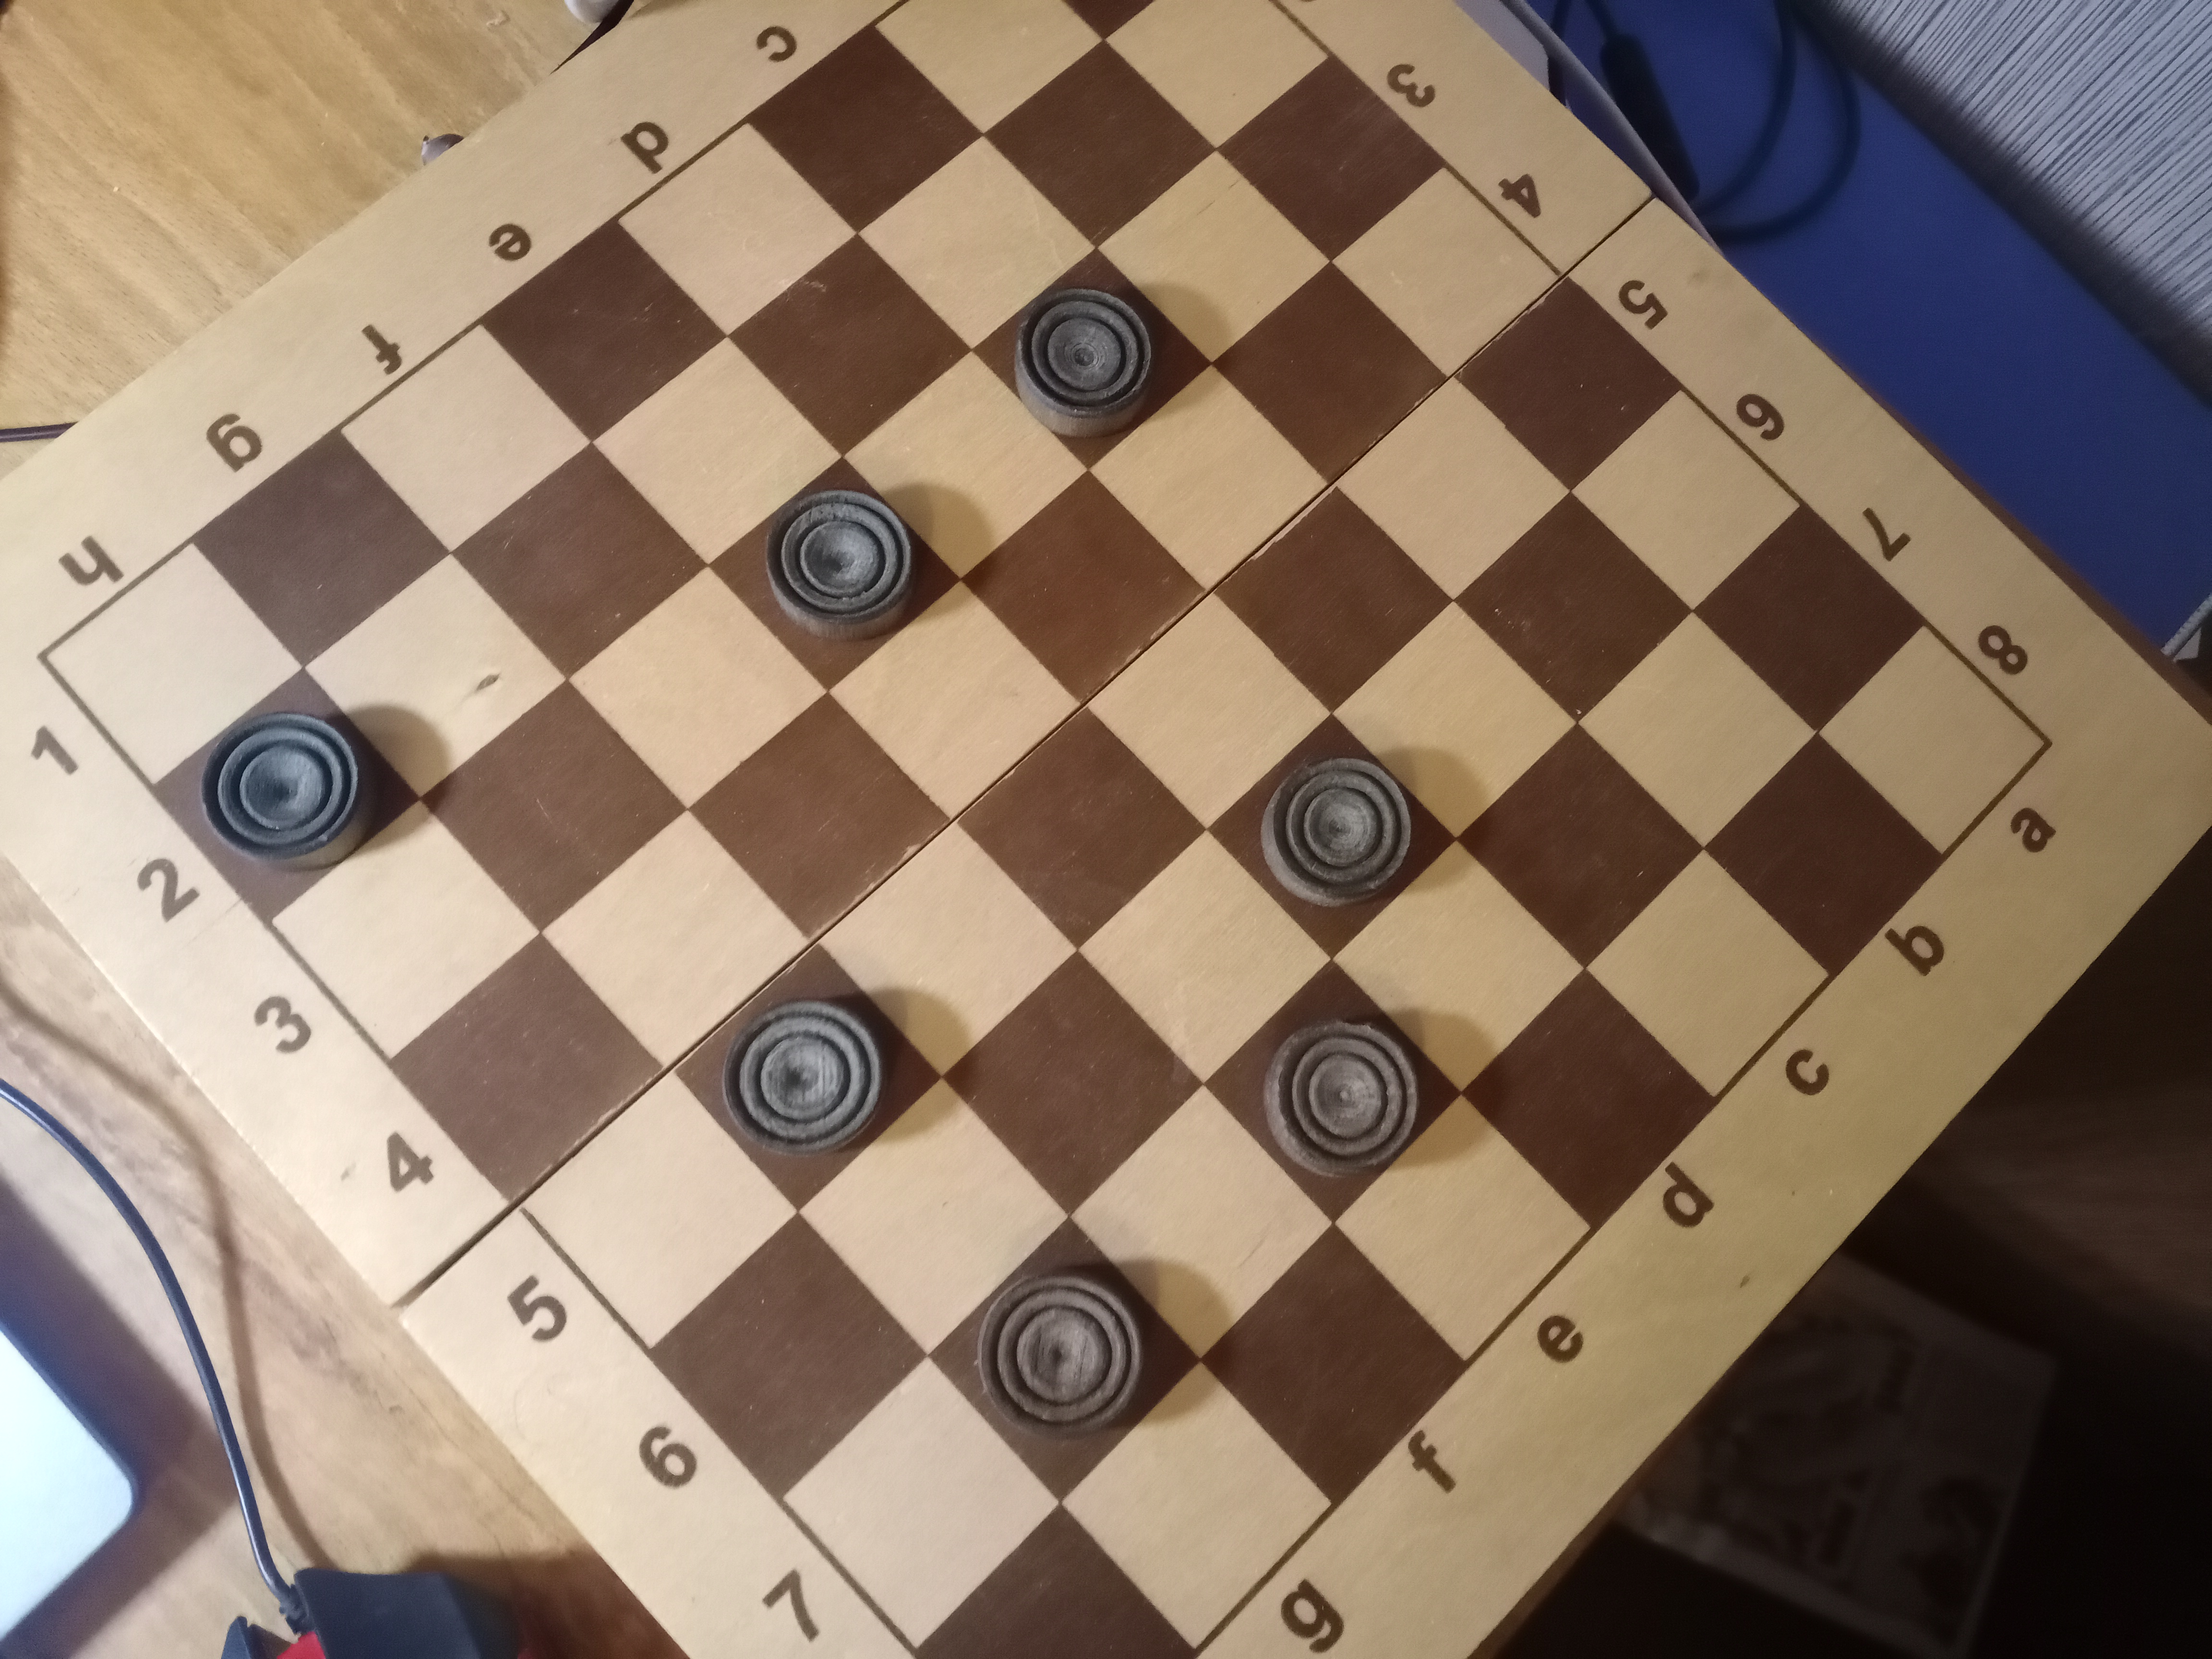Black_Draught: (925, 1215, 1198, 1506), (671, 941, 946, 1211), (1202, 958, 1465, 1225), (155, 667, 420, 920), (1207, 713, 1458, 967), (709, 455, 963, 690), (972, 247, 1214, 472)
